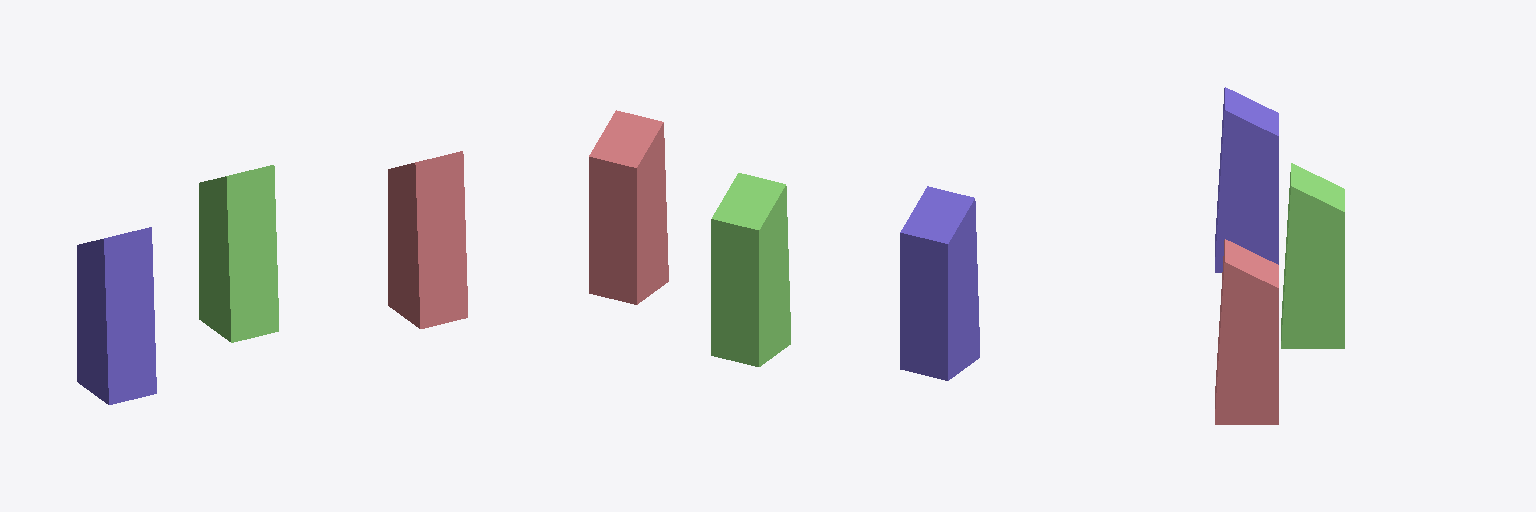
The picture shows the model from 3 angles: view 1: azimuth 30°, elevation 25°; view 2: azimuth 150°, elevation 25°; view 3: azimuth 270°, elevation 25°; orthographic projection.
Visible parts, largest first — view 1: Cube.001_Cube.035, Cube.003_Cube.037, Cube.002_Cube.036; view 2: Cube.001_Cube.035, Cube.002_Cube.036, Cube.003_Cube.037; view 3: Cube.003_Cube.037, Cube.001_Cube.035, Cube.002_Cube.036.
Boxes of the visible parts, box(x1,y1,x2,y2) form: Cube.001_Cube.035: box(199, 165, 278, 342); Cube.003_Cube.037: box(388, 151, 467, 328); Cube.002_Cube.036: box(77, 227, 156, 404); Cube.001_Cube.035: box(711, 173, 790, 366); Cube.002_Cube.036: box(900, 186, 979, 380); Cube.003_Cube.037: box(589, 110, 668, 304); Cube.003_Cube.037: box(1215, 239, 1278, 424); Cube.001_Cube.035: box(1281, 163, 1344, 348); Cube.002_Cube.036: box(1215, 87, 1278, 272).
Size of the model in its own units: 4.62 by 2 by 1.46.
3 materials, 3 textured.